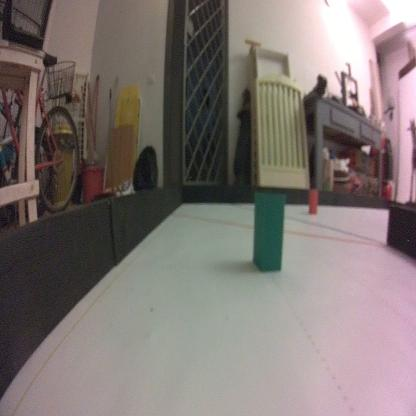green: (252, 186, 286, 276)
red: (308, 188, 318, 216)
